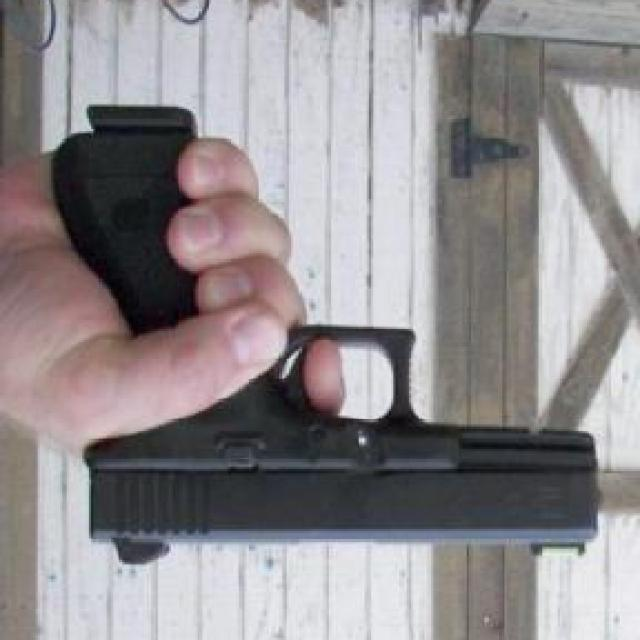pistol: (50, 102, 604, 560)
